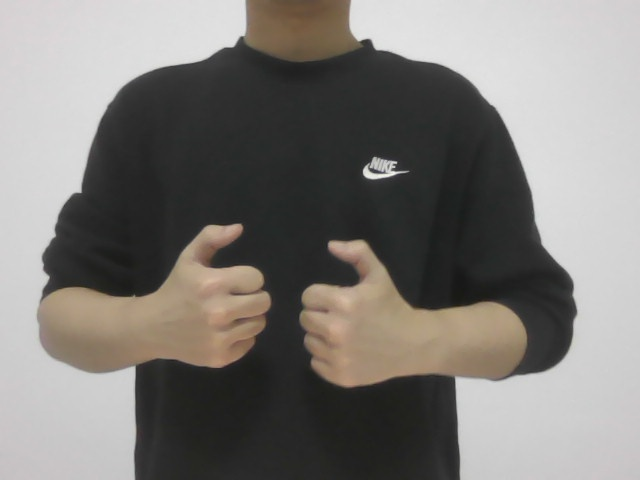marry/wife: (138, 210, 425, 397)
